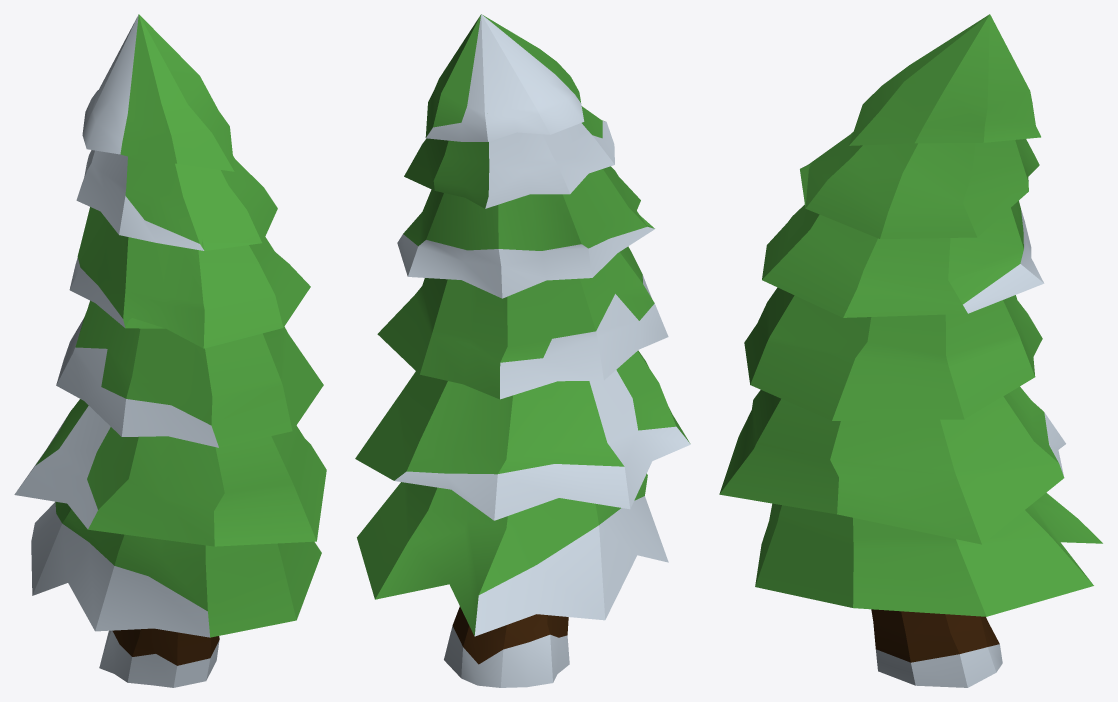
File: snow_tree3.fbx
The picture shows the model from 3 angles, left to right: view 1: azimuth 30°, elevation 25°; view 2: azimuth 150°, elevation 25°; view 3: azimuth 270°, elevation 25°; orthographic projection. The views are drawn at different scales.
Visible parts, largest first — view 1: FirTreeSnow3; view 2: FirTreeSnow3; view 3: FirTreeSnow3.
Part boxes in pixels (x1,y1,x2,y2): FirTreeSnow3: [14, 14, 326, 687]; FirTreeSnow3: [355, 14, 690, 687]; FirTreeSnow3: [719, 14, 1102, 687].
Size of the model in its own units: 1.76 by 4.14 by 2.22.
